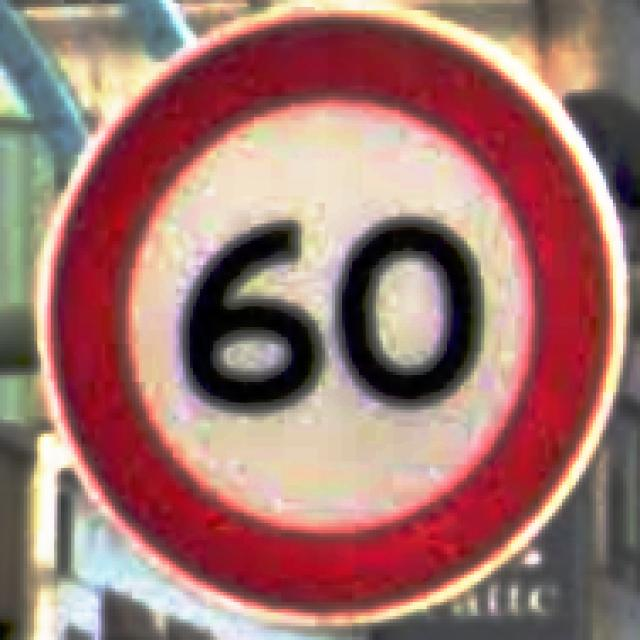max60: (31, 3, 634, 630)
